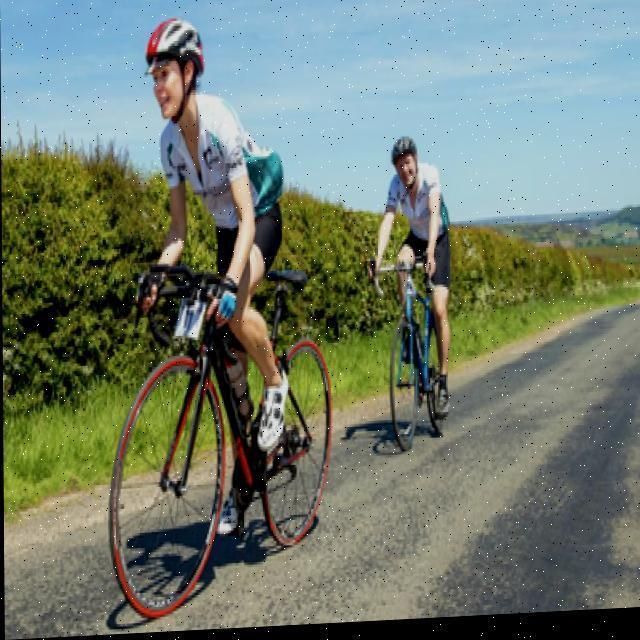Helmet: (141, 17, 206, 122), (387, 130, 427, 190)
